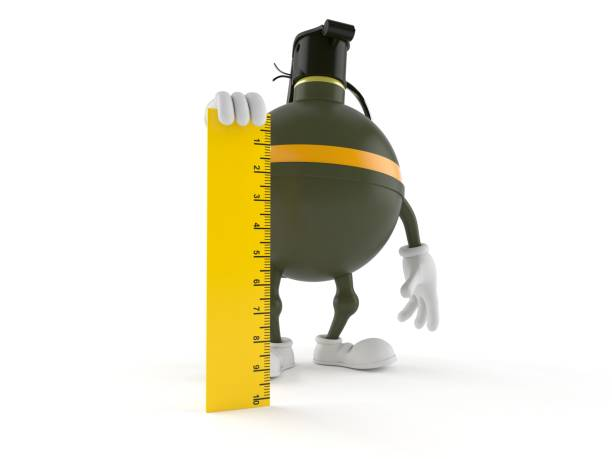e1: (252, 22, 404, 285)
